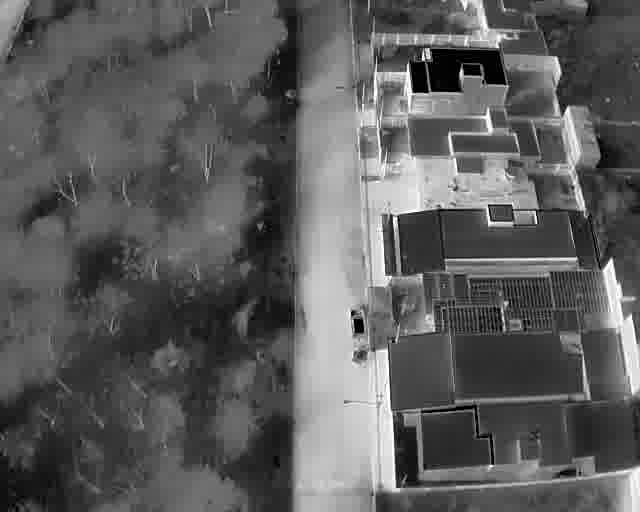car: (349, 304, 368, 343)
